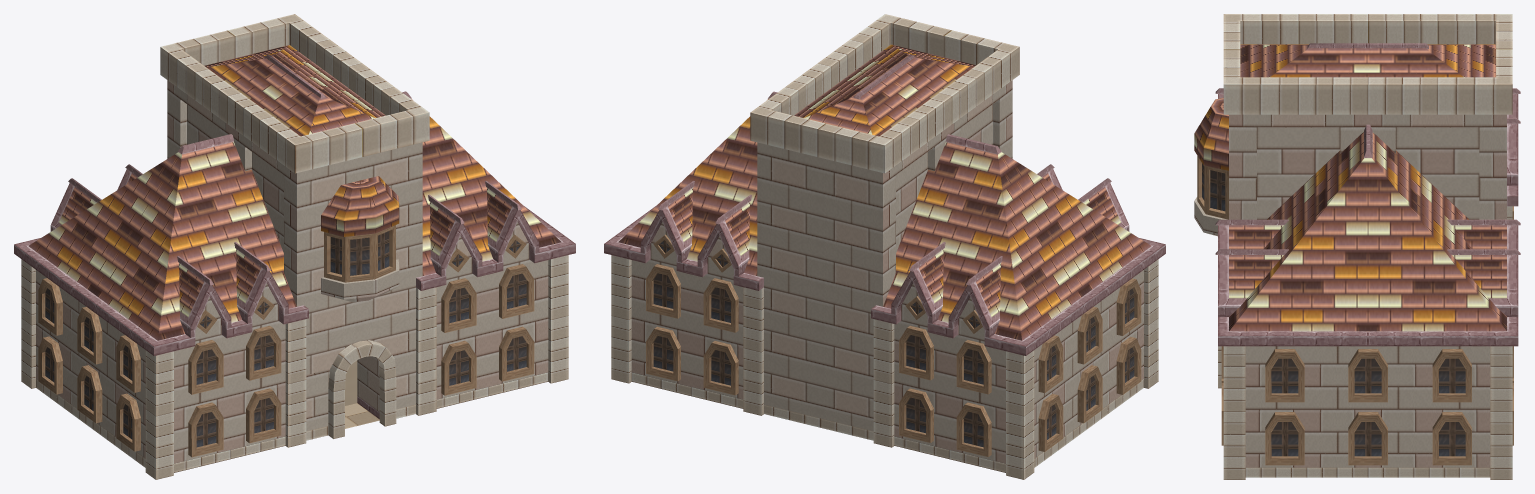
Rendered from School.fbx.
3 renders of one model, left to right at view 1: azimuth 30°, elevation 25°; view 2: azimuth 150°, elevation 25°; view 3: azimuth 270°, elevation 25°, orthographic. The views are drawn at different scales.
Parts seen in each view (by area): view 1: obj; view 2: obj; view 3: obj.
Boxes of the visible parts, x1,y1,x2,y2 form: obj: [14, 14, 575, 479]; obj: [604, 14, 1165, 479]; obj: [1194, 14, 1520, 479].
Size of the model in its own units: 9.4 by 6.51 by 5.87.
